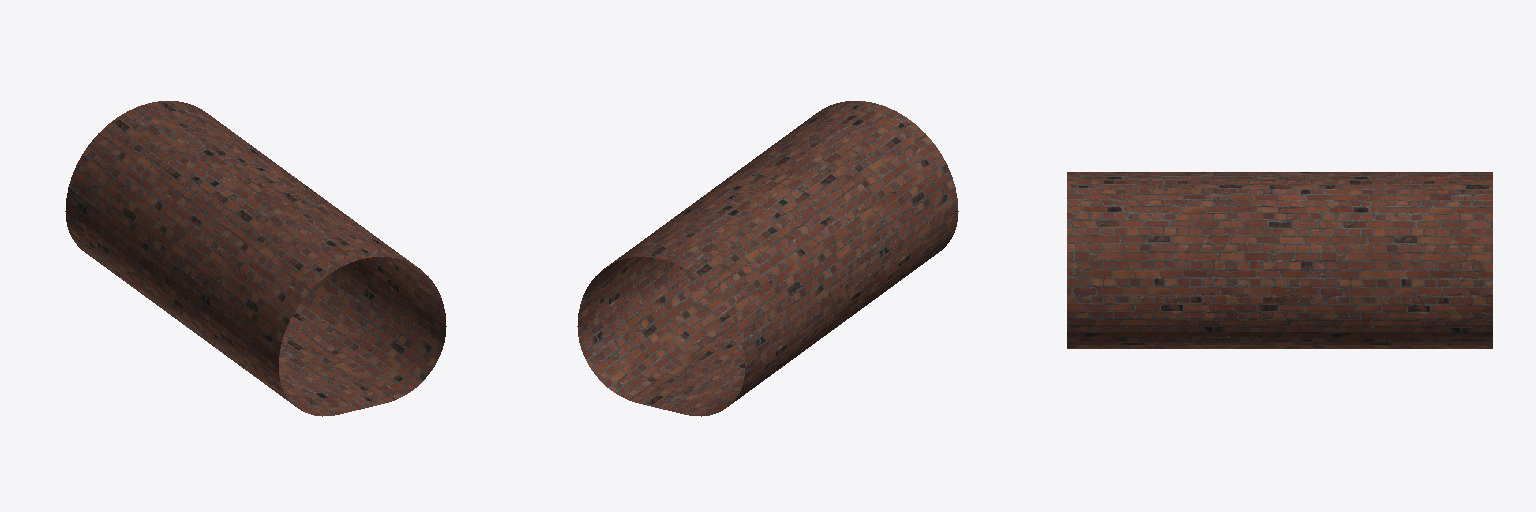
3 renders of one model, left to right at view 1: azimuth 30°, elevation 25°; view 2: azimuth 150°, elevation 25°; view 3: azimuth 270°, elevation 25°, orthographic.
Visible parts, largest first — view 1: kanal_2_CUBezierCurve.006; view 2: kanal_2_CUBezierCurve.006; view 3: kanal_2_CUBezierCurve.006.
Part boxes in pixels (x1,y1,x2,y2): kanal_2_CUBezierCurve.006: (65, 101, 446, 416); kanal_2_CUBezierCurve.006: (577, 101, 958, 416); kanal_2_CUBezierCurve.006: (1067, 172, 1492, 348).
Bounding box in the file's own units: 4 × 3.42 × 8.79.
Materials: 1 (1 with a texture image).